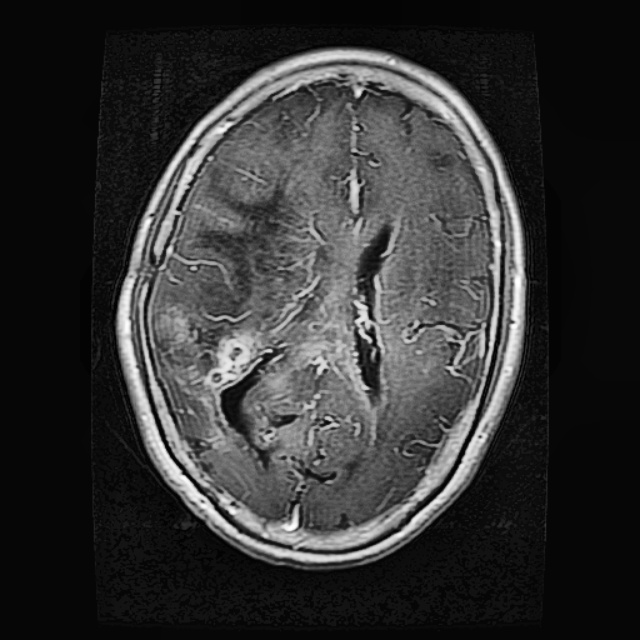Meningioma: (152, 309, 268, 389)
